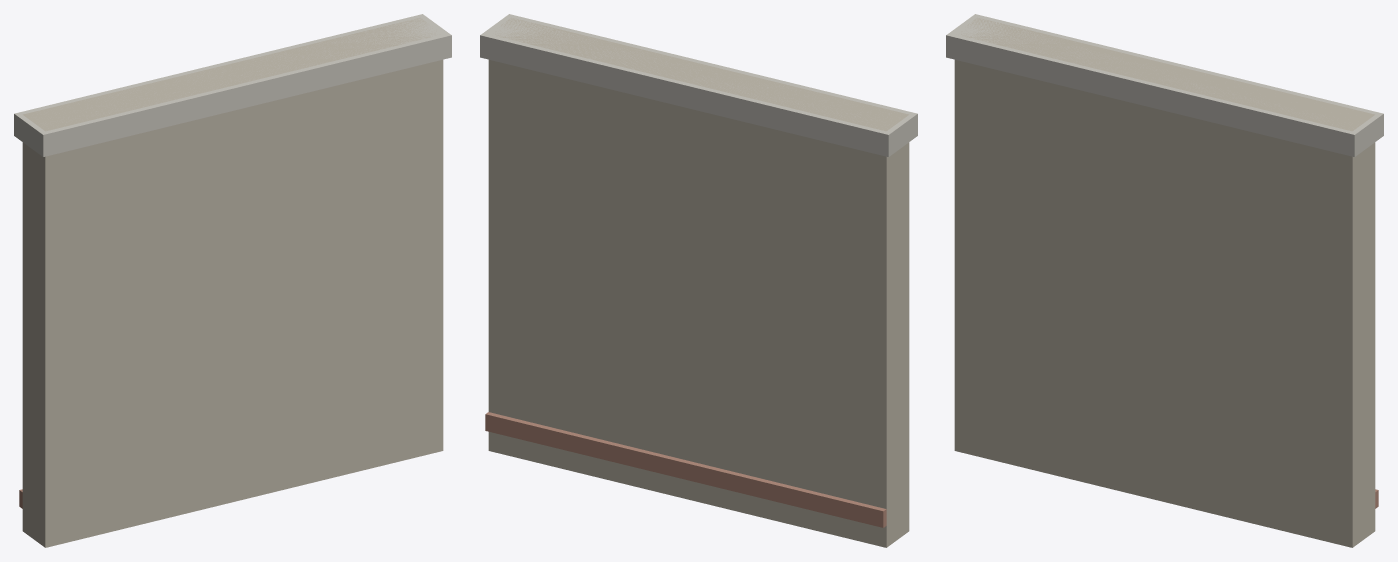
Rendered from iz3_neighborhood_cephe_dar.glb.
3 views of the same model, side by side, from view 1: azimuth 30°, elevation 25°; view 2: azimuth 150°, elevation 25°; view 3: azimuth 330°, elevation 25° (orthographic).
Parts seen in each view (by area): view 1: wall, cornice; view 2: wall, cornice, sill; view 3: wall, cornice.
Boxes of the visible parts, x1,y1,x2,y2 form: wall: (22,17,443,547); cornice: (14,14,451,156); wall: (488,17,909,547); cornice: (480,14,917,156); sill: (485,412,886,527); wall: (954,17,1375,547); cornice: (946,14,1383,156).
Size of the model in its own units: 3.08 by 3 by 0.38.
